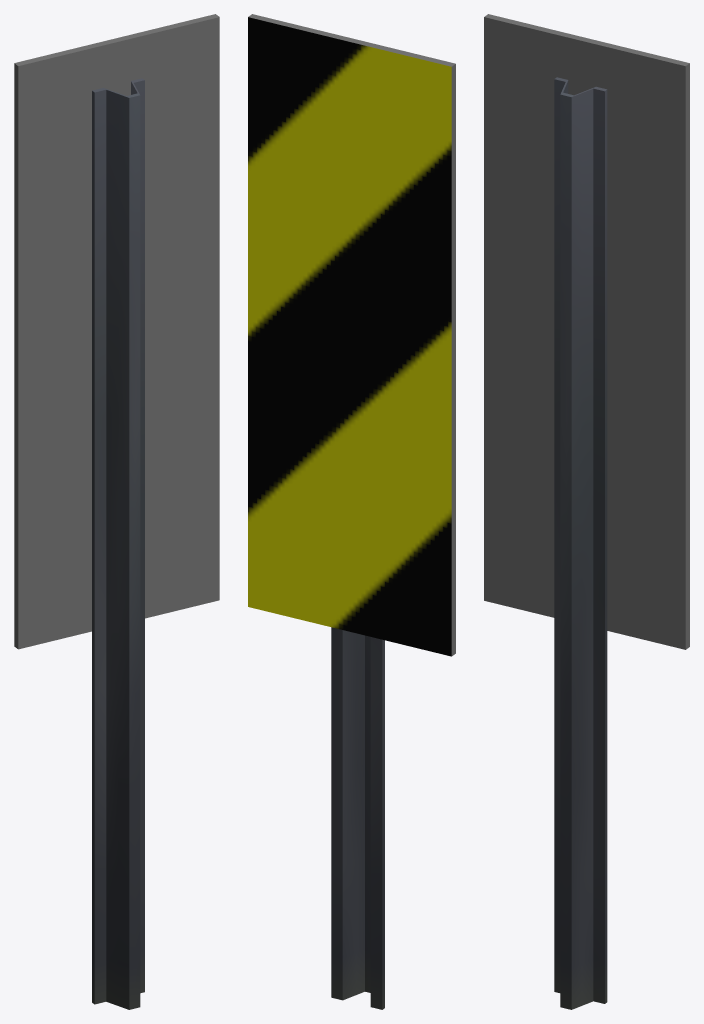
File: warning_solidobject.obj
3 renders of one model, left to right at view 1: azimuth 30°, elevation 25°; view 2: azimuth 150°, elevation 25°; view 3: azimuth 330°, elevation 25°, orthographic.
Parts seen in each view (by area): view 1: Mesh; view 2: Mesh; view 3: Mesh.
Part boxes in pixels (box(x1,y1,x2,y2)): Mesh: box(14, 14, 219, 1009); Mesh: box(248, 14, 455, 1009); Mesh: box(484, 14, 689, 1009).
Bounding box in the file's own units: 0.09 × 0.407 × 0.0166.
